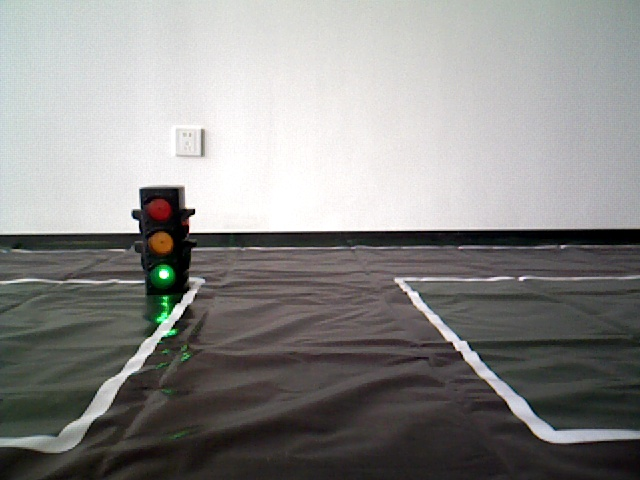green: (148, 196, 187, 283)
